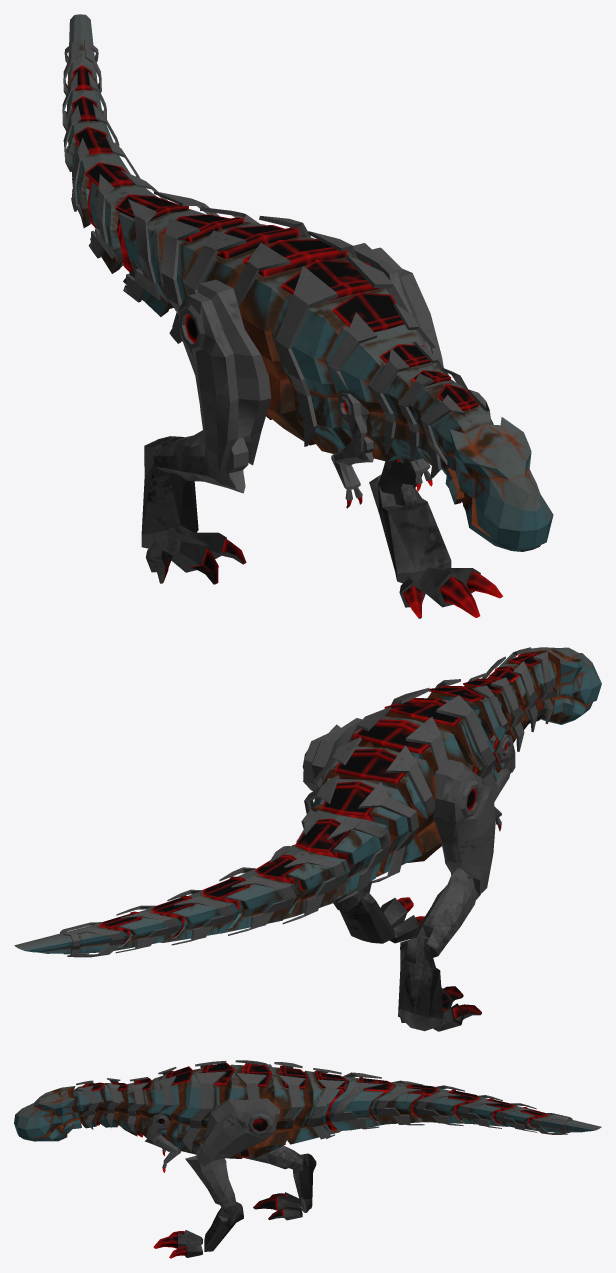
File: low-poly-t-rex--walk-cycle----free-downl-80f501.glb
3 views of the same model, one above another, from view 1: azimuth 30°, elevation 25°; view 2: azimuth 150°, elevation 25°; view 3: azimuth 270°, elevation 25° (orthographic). The views are drawn at different scales.
Visible parts, largest first — view 1: PropMesh; view 2: PropMesh; view 3: PropMesh.
Boxes of the visible parts, x1,y1,x2,y2 form: PropMesh: (62,14,553,618); PropMesh: (14,647,601,1031); PropMesh: (14,1060,601,1258).
Size of the model in its own units: 0.5048 by 0.6176 by 2.
4 materials, 4 textured.
